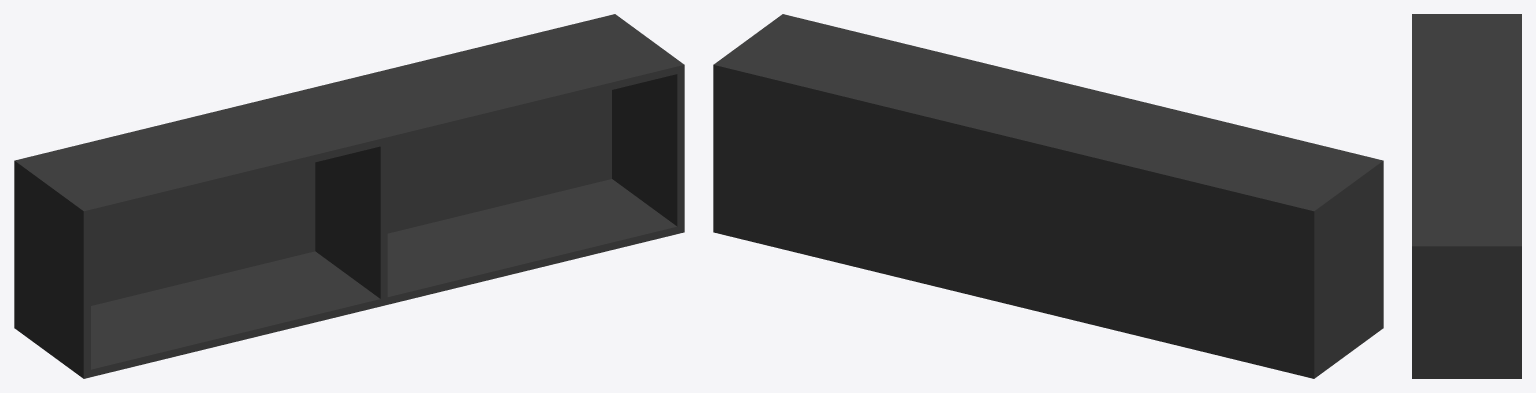
3 renders of one model, left to right at view 1: azimuth 30°, elevation 25°; view 2: azimuth 150°, elevation 25°; view 3: azimuth 270°, elevation 25°, orthographic. The views are drawn at different scales.
Visible parts, largest first — view 1: SketchUp, SketchUp.004, SketchUp.005; view 2: SketchUp.001, SketchUp; view 3: SketchUp.
Boxes of the visible parts, x1=… form: SketchUp: x1=14, y1=14, x2=684, y2=378; SketchUp.004: x1=91, y1=162, x2=315, y2=305; SketchUp.005: x1=387, y1=90, x2=611, y2=233; SketchUp.001: x1=720, y1=74, x2=1306, y2=369; SketchUp: x1=713, y1=14, x2=1383, y2=378; SketchUp: x1=1412, y1=14, x2=1521, y2=378.
Bounding box in the file's own units: 1.5 × 0.4 × 0.3.
Materials: 2 (1 with a texture image).
